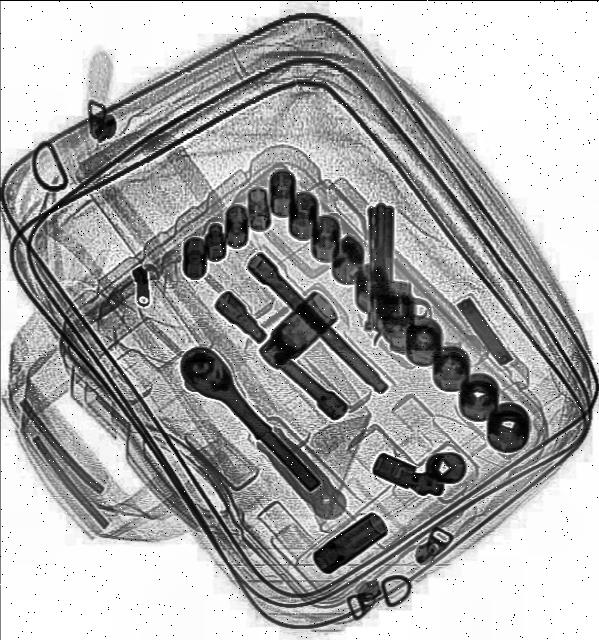Gun: (361, 202, 437, 352)
